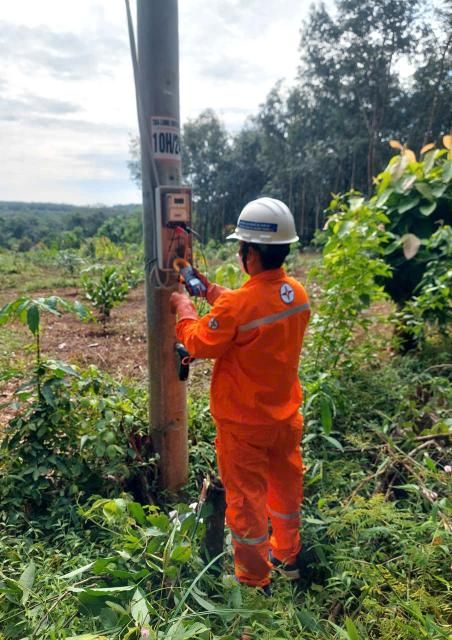gloves: (190, 255, 238, 302), (157, 292, 202, 333)
helmet: (230, 192, 306, 251)
